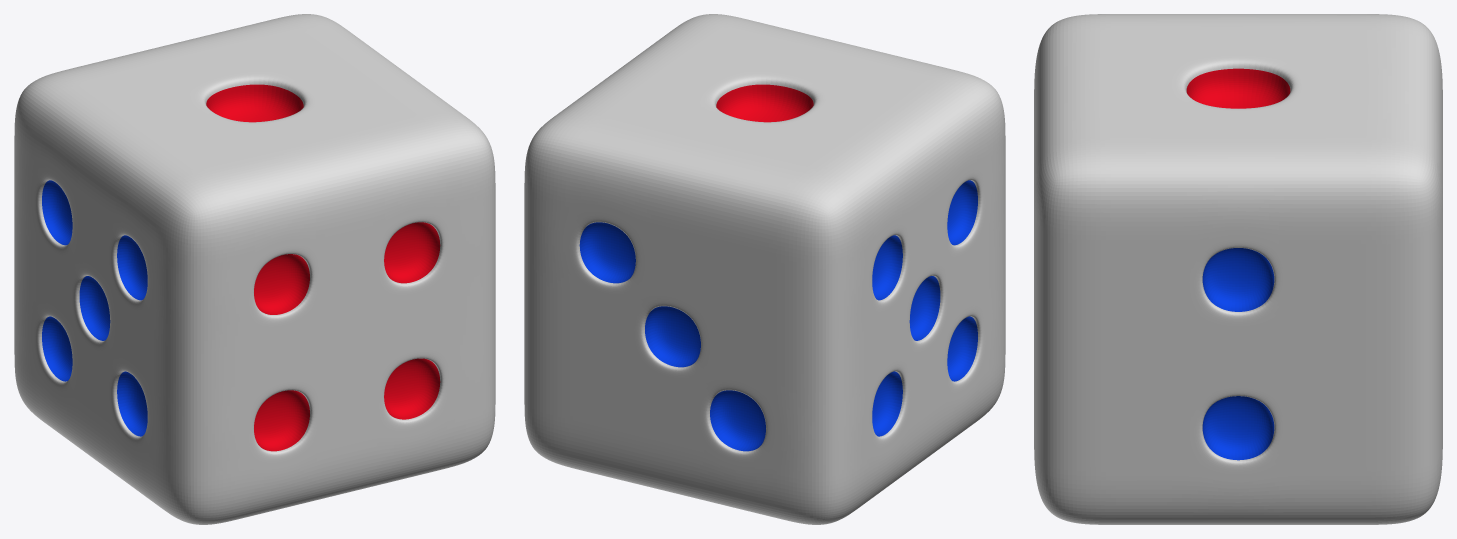
File: shaizi.fbx
The picture shows the model from 3 angles, left to right: view 1: azimuth 30°, elevation 25°; view 2: azimuth 150°, elevation 25°; view 3: azimuth 270°, elevation 25°; orthographic projection. The views are drawn at different scales.
Parts seen in each view (by area): view 1: Cube; view 2: Cube; view 3: Cube.
Boxes of the visible parts, x1,y1,x2,y2 form: Cube: (14, 14, 495, 524); Cube: (524, 14, 1005, 524); Cube: (1034, 14, 1442, 524).
Bounding box in the file's own units: 200 × 200 × 200.
